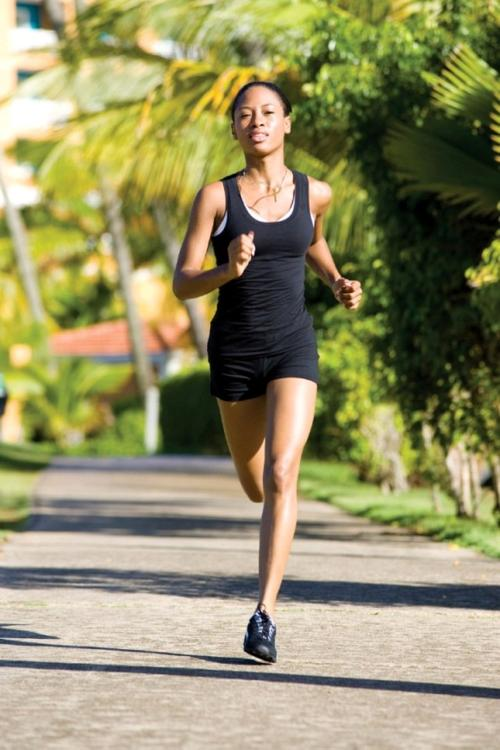person: (172, 74, 365, 666)
